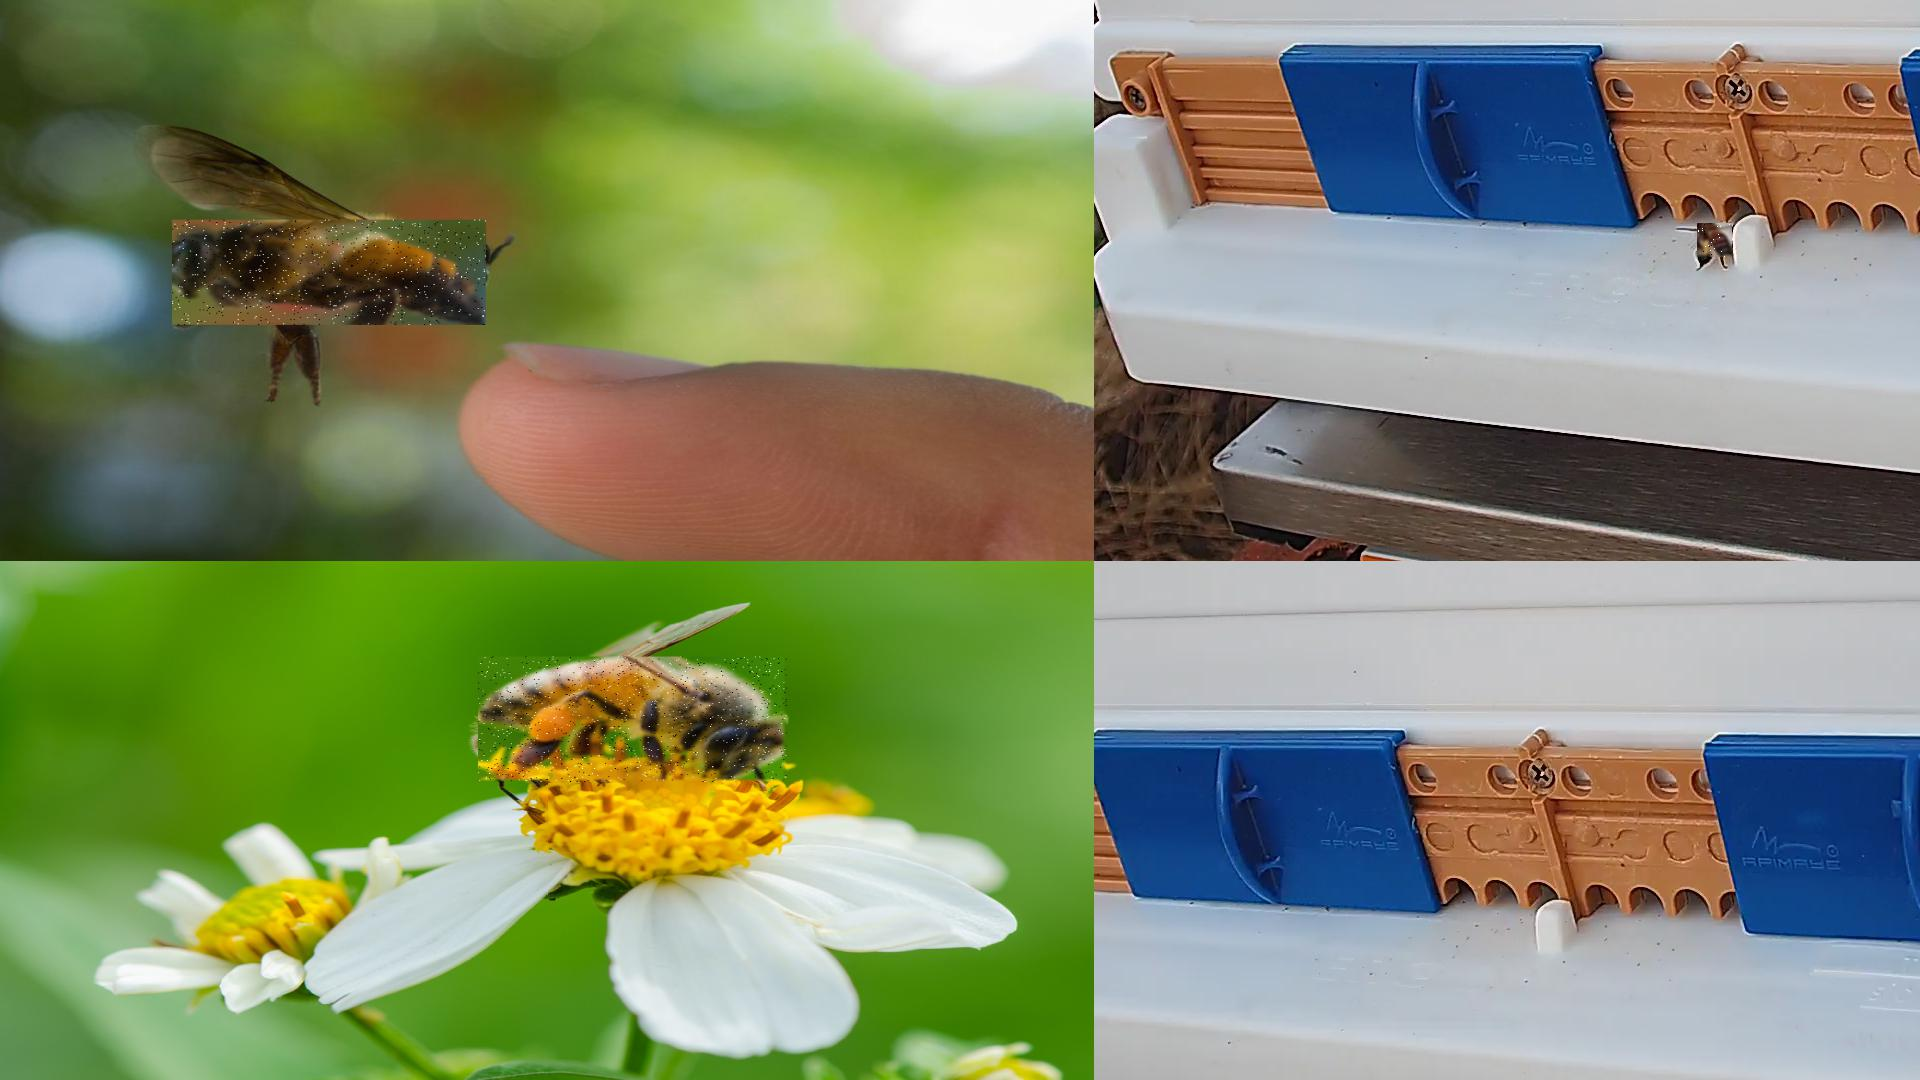bee: (171, 220, 487, 326)
pollenbee: (479, 657, 789, 783), (1697, 224, 1733, 260)
